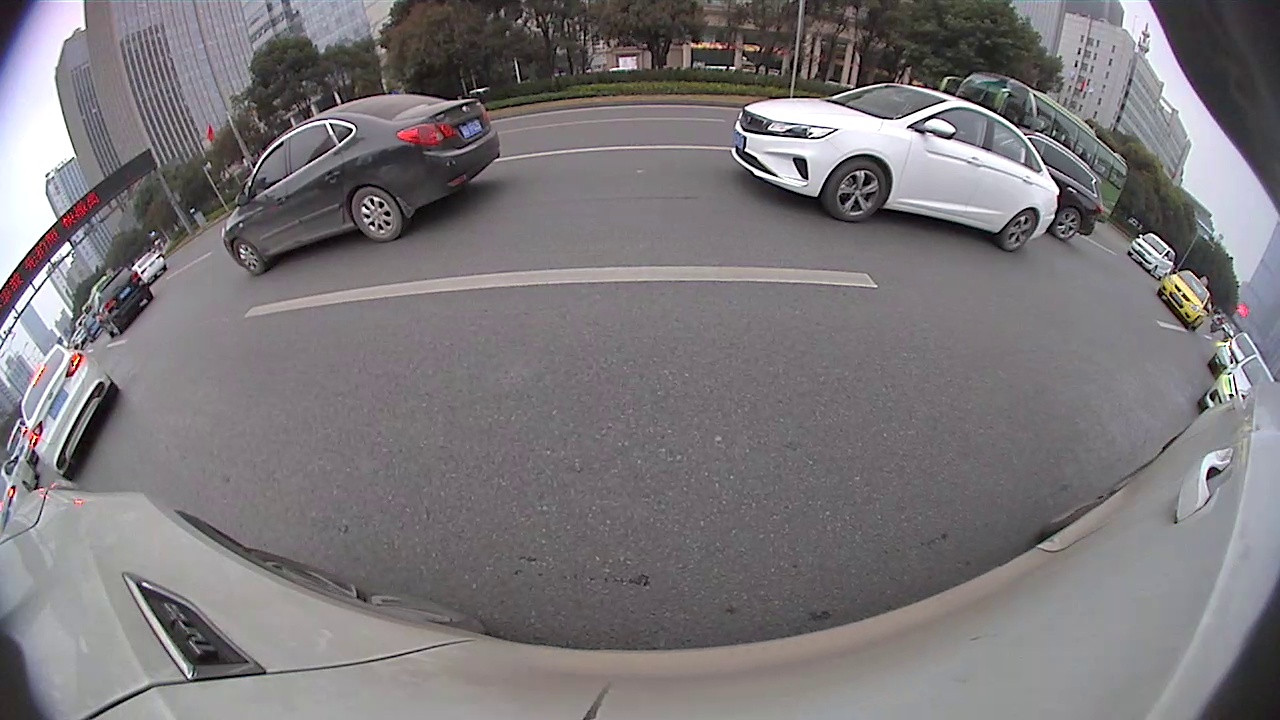bus: (940, 64, 1136, 224)
car: (727, 79, 1062, 258), (220, 93, 503, 281), (18, 344, 122, 478), (1016, 129, 1103, 245), (95, 261, 156, 337), (1155, 269, 1213, 331)
front: (824, 157, 890, 220), (233, 237, 266, 276)
rear: (353, 186, 403, 244), (1001, 209, 1038, 252), (1052, 208, 1080, 239)
